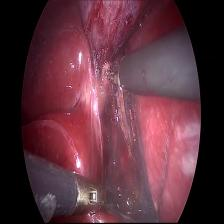Grasper: (76, 174, 124, 220)
Hook: (108, 57, 125, 99)
